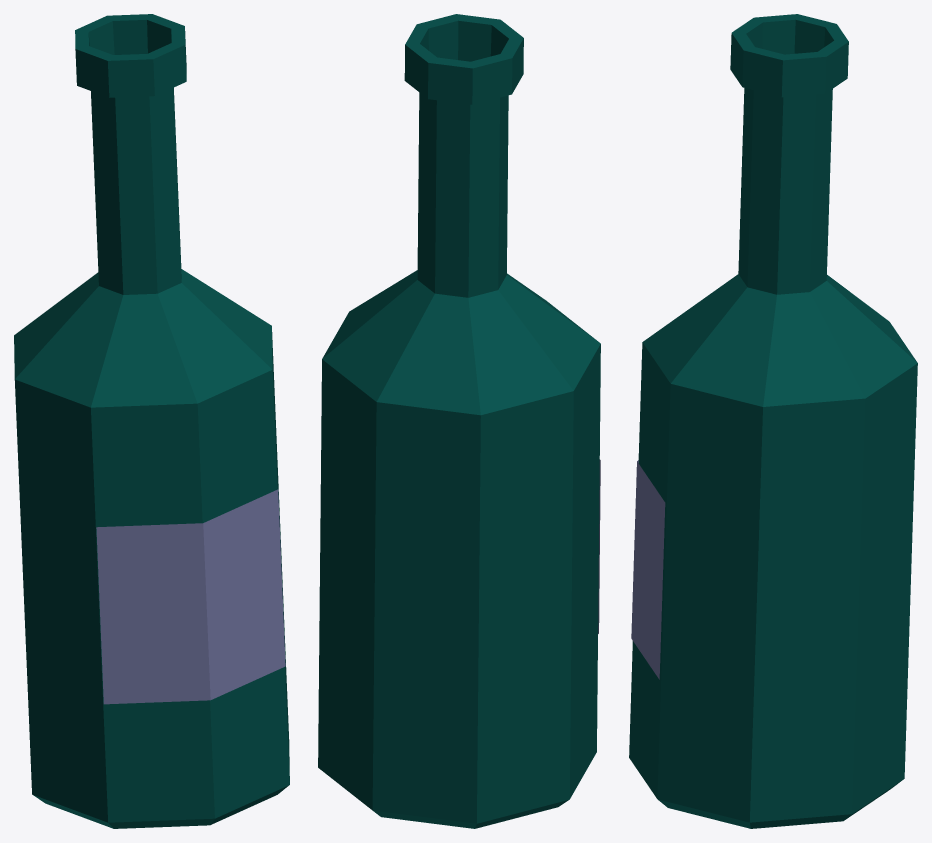
The model's file is Bottle_3.fbx.
3 views of the same model, side by side, from view 1: azimuth 30°, elevation 25°; view 2: azimuth 150°, elevation 25°; view 3: azimuth 270°, elevation 25° (orthographic).
Parts seen in each view (by area): view 1: Bottle_3; view 2: Bottle_3; view 3: Bottle_3.
Part boxes in pixels (x1,y1,x2,y2): Bottle_3: [14, 14, 289, 828]; Bottle_3: [318, 14, 600, 828]; Bottle_3: [629, 14, 917, 828].
Size of the model in its own units: 9.23 by 9.27 by 26.21.
